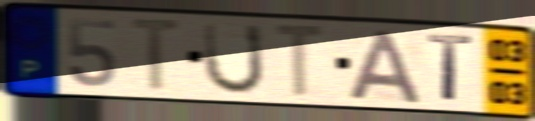5: (66, 16, 118, 90)
A: (345, 27, 425, 106)
T: (271, 21, 333, 102), (127, 15, 189, 96), (425, 32, 476, 106)
U: (202, 20, 267, 98)
